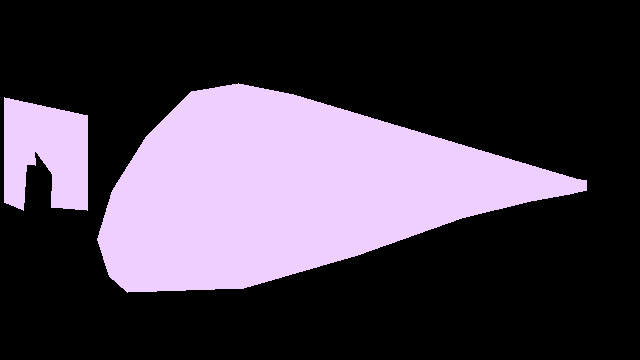Train: (97, 83, 587, 292), (4, 97, 88, 211)
